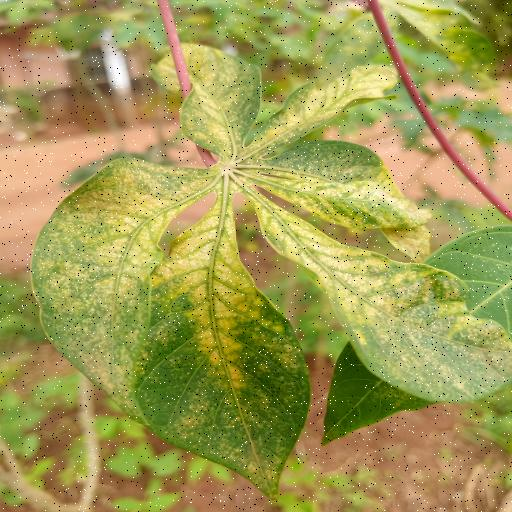Cassava_Mosaic: (23, 41, 512, 488)
